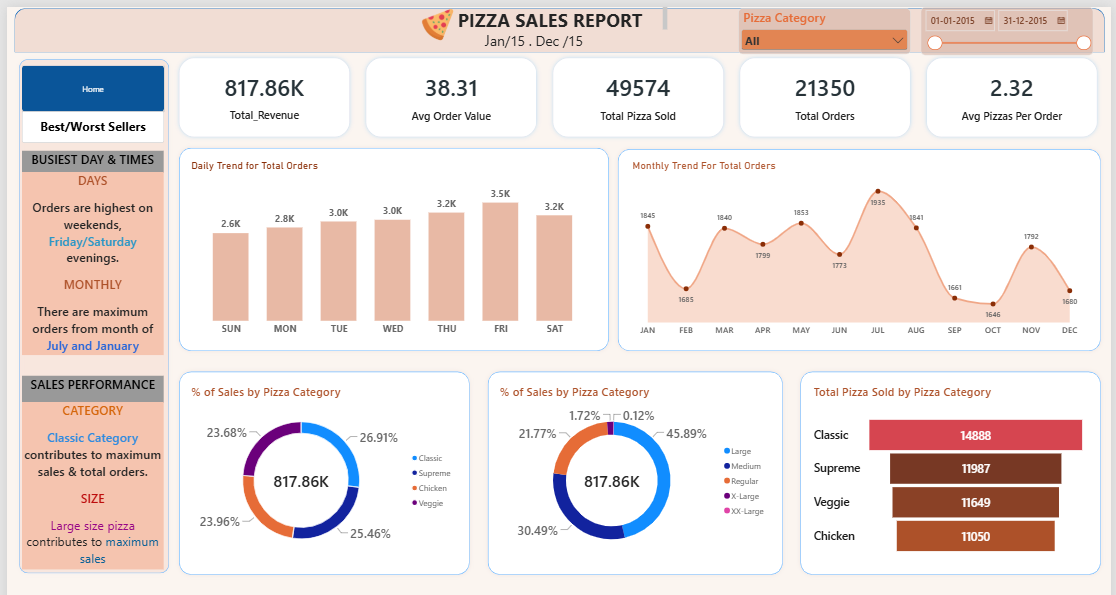

This screenshot's page, from the dashboard's own definition file:
{"tool":"powerbi","page":{"name":"Home","canvas":[1920,1080],"ordinal":0},"visuals":[{"type":"cardVisual","fields":{"Data":["pizza_sales.Total_Revenue","pizza_sales.Avg Order Value","pizza_sales.Total Pizza Sold","pizza_sales.Total Orders","pizza_sales.Avg Pizzas Per Order"]},"box":[290.2,78.4,1619.6,158.8],"z":0},{"type":"shape","box":[13.5,1.9,1896.2,76.9],"z":1000},{"type":"textbox","box":[749,0,398,41.2],"z":2000},{"type":"textbox","box":[829.4,39.2,270.6,37.3],"z":3000},{"type":"image","box":[702,2,94.1,56.9],"z":4000},{"type":"shape","box":[290.4,236.5,763.5,369.2],"z":5000},{"type":"columnChart","title":"Daily Trend for Total Orders","fields":{"Category":["pizza_sales.Order Day"],"Y":["pizza_sales.Total Orders"]},"box":[303.8,250,734.6,342.3],"z":6000},{"type":"shape","box":[1053.8,238.5,855.8,367.3],"z":7000},{"type":"areaChart","title":"Monthly Trend For Total Orders","fields":{"Category":["pizza_sales.Order Month"],"Y":["pizza_sales.Total Orders"]},"box":[1071.2,250,819.2,342.3],"z":8000},{"type":"shape","box":[290.4,625,521.2,369.2],"z":9000},{"type":"shape","box":[828.8,625,528.8,369.2],"z":10000},{"type":"shape","box":[1371.2,625,538.5,369.2],"z":11000},{"type":"donutChart","title":"% of Sales by Pizza Category","fields":{"Category":["pizza_sales.pizza_category"],"Y":["pizza_sales.Total_Revenue"]},"box":[303.8,640.4,492.3,338.5],"z":12000},{"type":"donutChart","title":"% of Sales by Pizza Category","fields":{"Category":["pizza_sales.pizza_size"],"Y":["pizza_sales.Total_Revenue"]},"box":[842.3,640.4,500,338.5],"z":13000},{"type":"funnel","title":"Total Pizza Sold by Pizza Category","fields":{"Category":["pizza_sales.pizza_category"],"Y":["pizza_sales.Total Pizza Sold"]},"box":[1386.5,640.4,503.8,338.5],"z":14000},{"type":"shape","box":[12.7,83.2,276.9,910.3],"z":15000},{"type":"textbox","box":[27.1,249.7,246.1,38],"z":16000},{"type":"textbox","box":[27.1,287.7,246.1,318.5],"z":17000},{"type":"textbox","box":[27.1,640.6,246.1,47.1],"z":18000},{"type":"textbox","box":[27.1,687.7,246.1,291.4],"z":19000},{"type":"slicer","fields":{"Values":["pizza_sales.pizza_category"]},"box":[1271.2,1.9,300,80],"z":20000},{"type":"slicer","fields":{"Values":["pizza_sales.order_date"]},"box":[1589.8,0,300,83.7],"z":21000},{"type":"pageNavigator","box":[27.1,181,247.9,56.1],"z":21002},{"type":"pageNavigator","box":[25.3,101.3,247.9,79.6],"z":21003}]}

Visuals, with their boxes on the page's 1920x1080 design canvas (x1, y1, x2, y2). These are canvas units, not pixel positions in the 1116x595 screenshot, which may show the page scaled, cropped or inside an application window:
cardVisual - pizza_sales.Total_Revenue x pizza_sales.Avg Order Value: <box>290,78,1910,237</box>
shape: <box>14,2,1910,79</box>
textbox: <box>749,0,1147,41</box>
textbox: <box>829,39,1100,76</box>
image: <box>702,2,796,59</box>
shape: <box>290,236,1054,606</box>
"Daily Trend for Total Orders" columnChart: <box>304,250,1038,592</box>
shape: <box>1054,238,1910,606</box>
"Monthly Trend For Total Orders" areaChart: <box>1071,250,1890,592</box>
shape: <box>290,625,812,994</box>
shape: <box>829,625,1358,994</box>
shape: <box>1371,625,1910,994</box>
"% of Sales by Pizza Category" donutChart: <box>304,640,796,979</box>
"% of Sales by Pizza Category" donutChart: <box>842,640,1342,979</box>
"Total Pizza Sold by Pizza Category" funnel: <box>1386,640,1890,979</box>
shape: <box>13,83,290,994</box>
textbox: <box>27,250,273,288</box>
textbox: <box>27,288,273,606</box>
textbox: <box>27,641,273,688</box>
textbox: <box>27,688,273,979</box>
slicer - pizza_sales.pizza_category: <box>1271,2,1571,82</box>
slicer - pizza_sales.order_date: <box>1590,0,1890,84</box>
pageNavigator: <box>27,181,275,237</box>
pageNavigator: <box>25,101,273,181</box>
